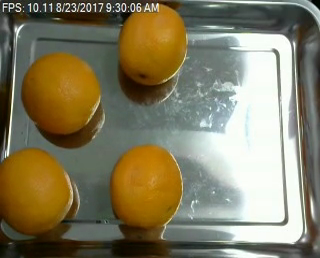Orange: (22, 52, 101, 135), (110, 143, 184, 228), (1, 147, 74, 233), (117, 3, 187, 86)
